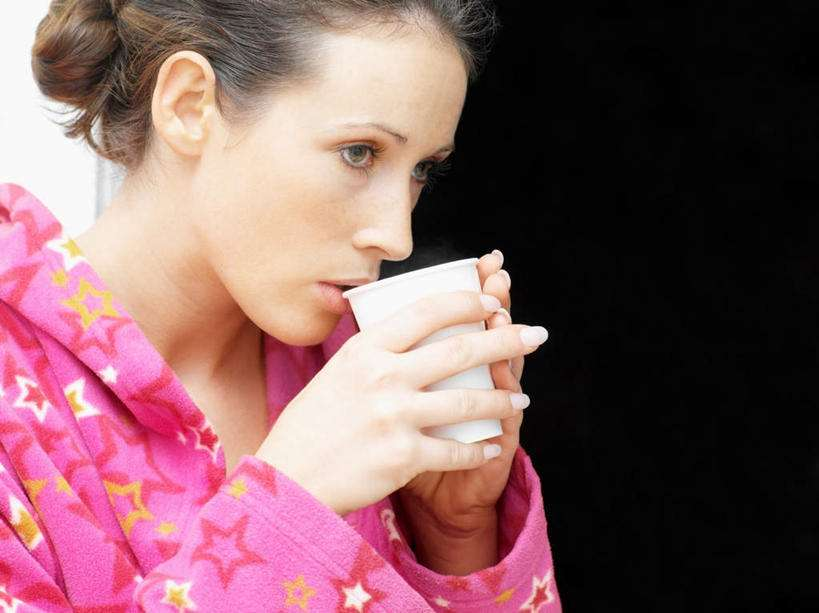no-phone: (260, 242, 549, 514)
